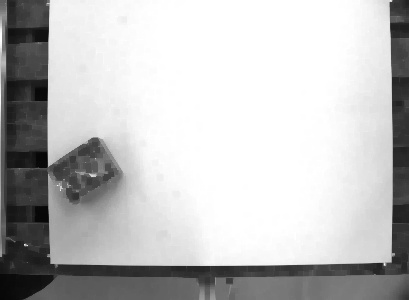klts: (45, 133, 127, 209)
